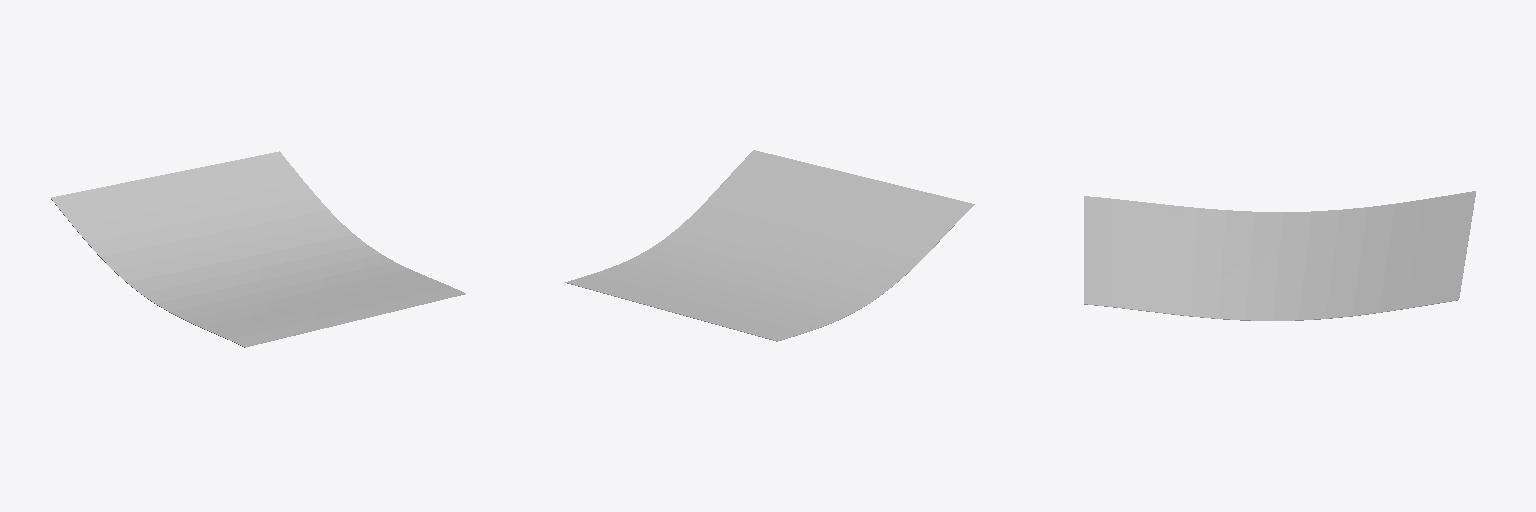
The model's file is paper.obj.
The picture shows the model from 3 angles: view 1: azimuth 30°, elevation 25°; view 2: azimuth 150°, elevation 25°; view 3: azimuth 270°, elevation 25°; orthographic projection.
Parts seen in each view (by area): view 1: 곡선 평면; view 2: 곡선 평면; view 3: 곡선 평면.
Part boxes in pixels (bbox=[...]): 곡선 평면: bbox=[51, 151, 465, 347]; 곡선 평면: bbox=[565, 150, 974, 341]; 곡선 평면: bbox=[1084, 191, 1475, 320].
Bounding box in the file's own units: 16 × 1.72 × 24.